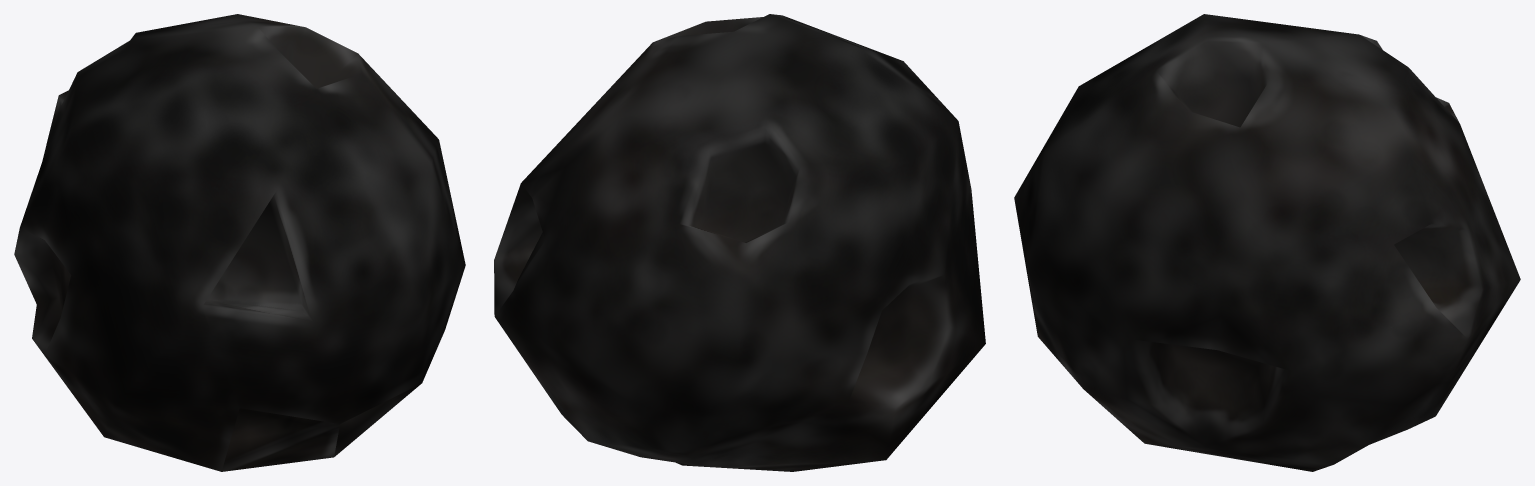
Rendered from Asteroid_Version2_2.fbx.
3 renders of one model, left to right at view 1: azimuth 30°, elevation 25°; view 2: azimuth 150°, elevation 25°; view 3: azimuth 270°, elevation 25°, orthographic. The views are drawn at different scales.
Visible parts, largest first — view 1: asteroid env | 2; view 2: asteroid env | 2; view 3: asteroid env | 2.
Part boxes in pixels (x1,y1,x2,y2): asteroid env | 2: (14, 14, 465, 471); asteroid env | 2: (494, 14, 985, 471); asteroid env | 2: (1014, 14, 1520, 471).
Size of the model in its own units: 171 by 181 by 197.
